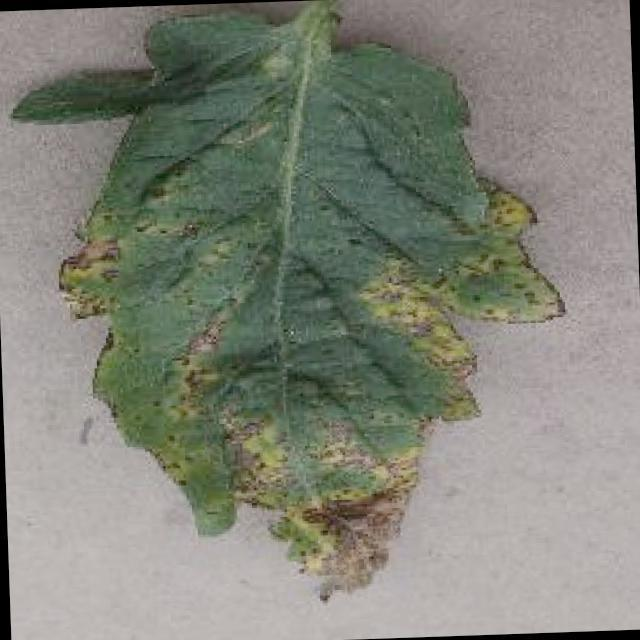Tomato bacterial spot leaf: (4, 0, 575, 619)
